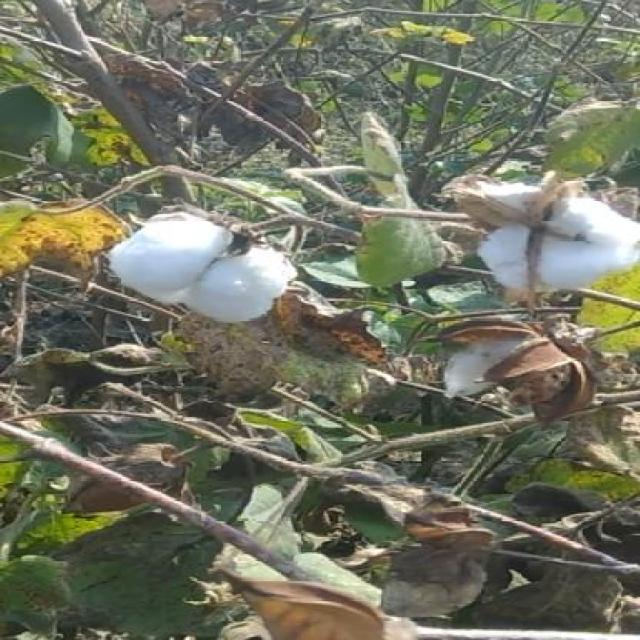cotton_ready: (424, 162, 639, 309), (83, 225, 309, 333)
